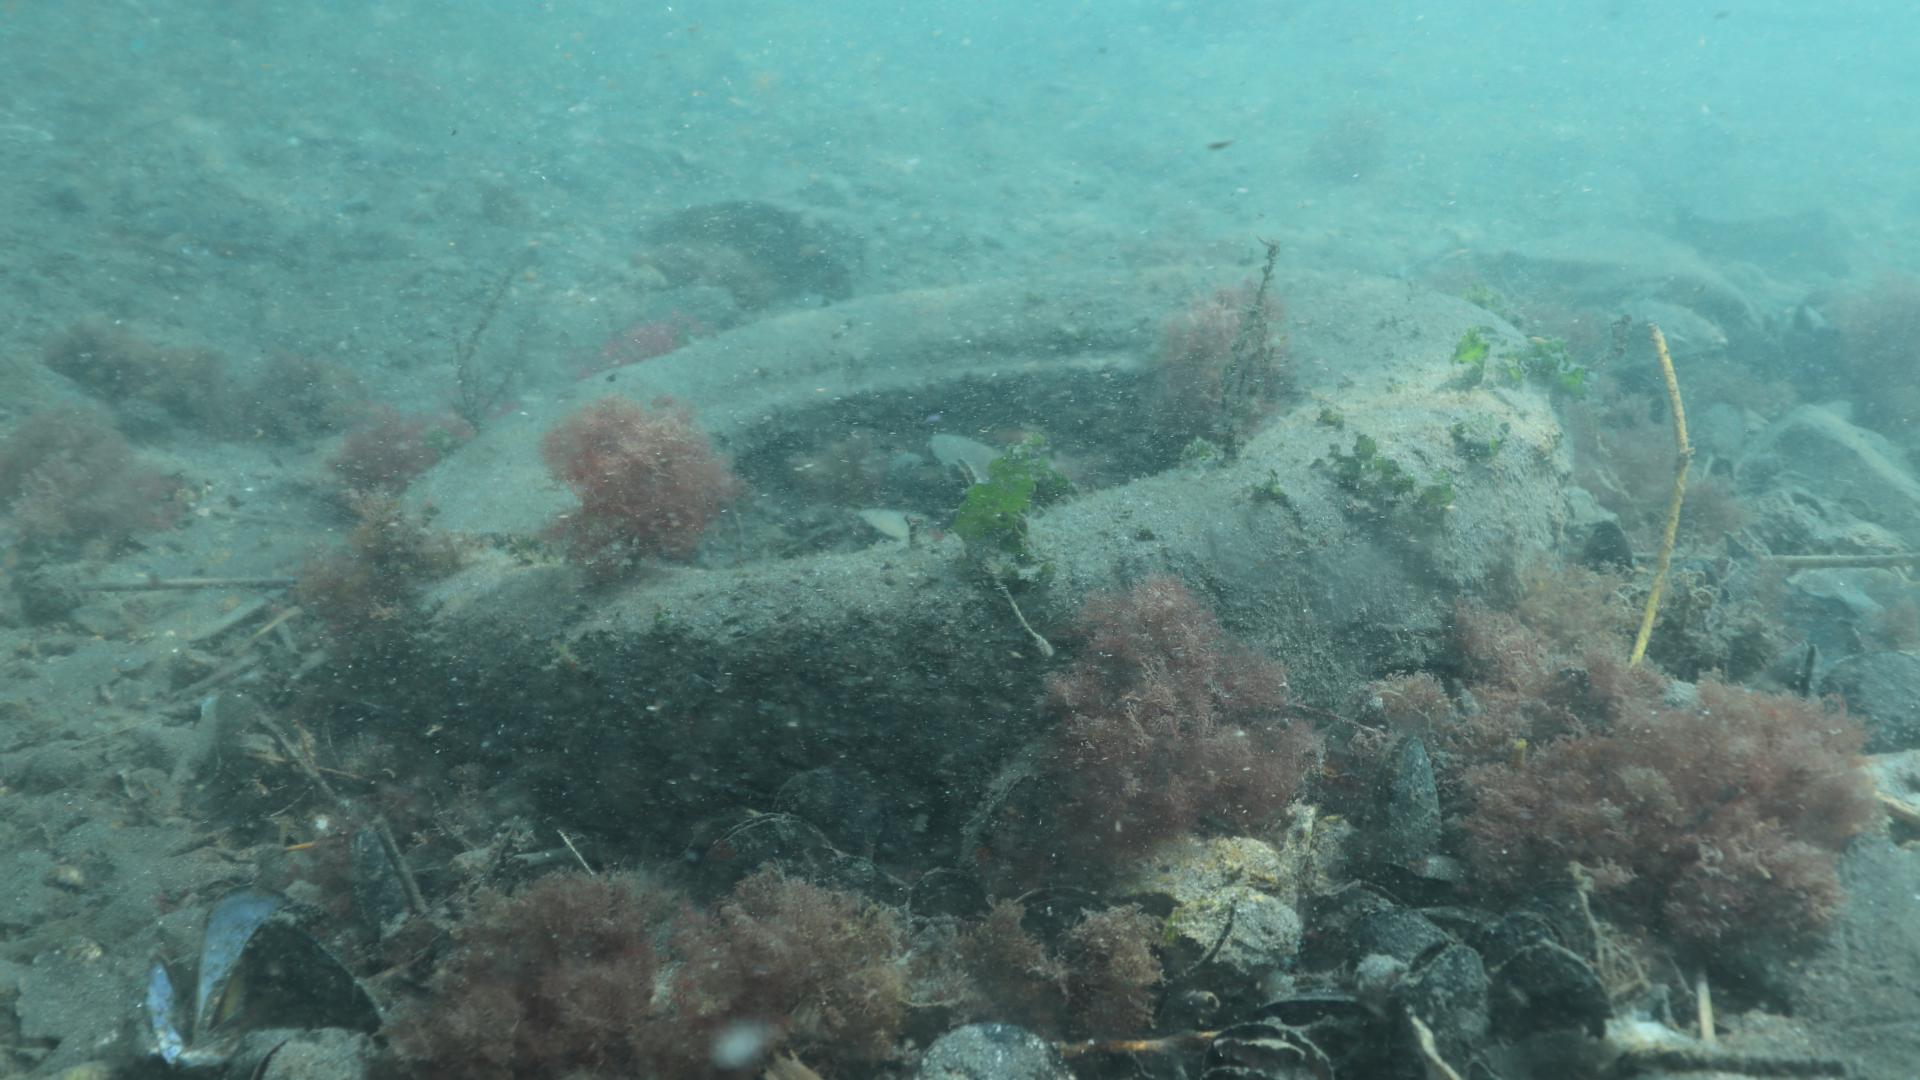tire: (364, 258, 1572, 913)
